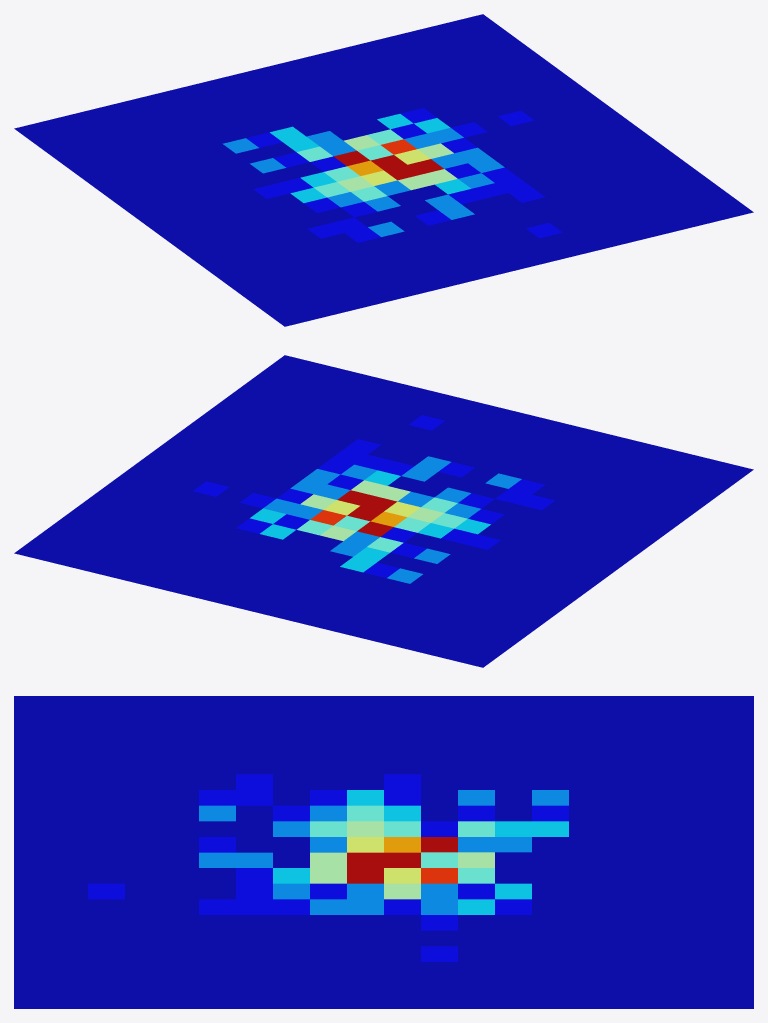
3 views of the same model, one above another, from view 1: azimuth 30°, elevation 25°; view 2: azimuth 150°, elevation 25°; view 3: azimuth 270°, elevation 25° (orthographic). The views are drawn at different scales.
Visible parts, largest first — view 1: output9; view 2: output9; view 3: output9.
Part boxes in pixels (x1,y1,x2,y2): output9: [14, 14, 753, 326]; output9: [14, 355, 753, 667]; output9: [14, 696, 753, 1008].
Size of the model in its own units: 20 by 3.37e-06 by 20.
